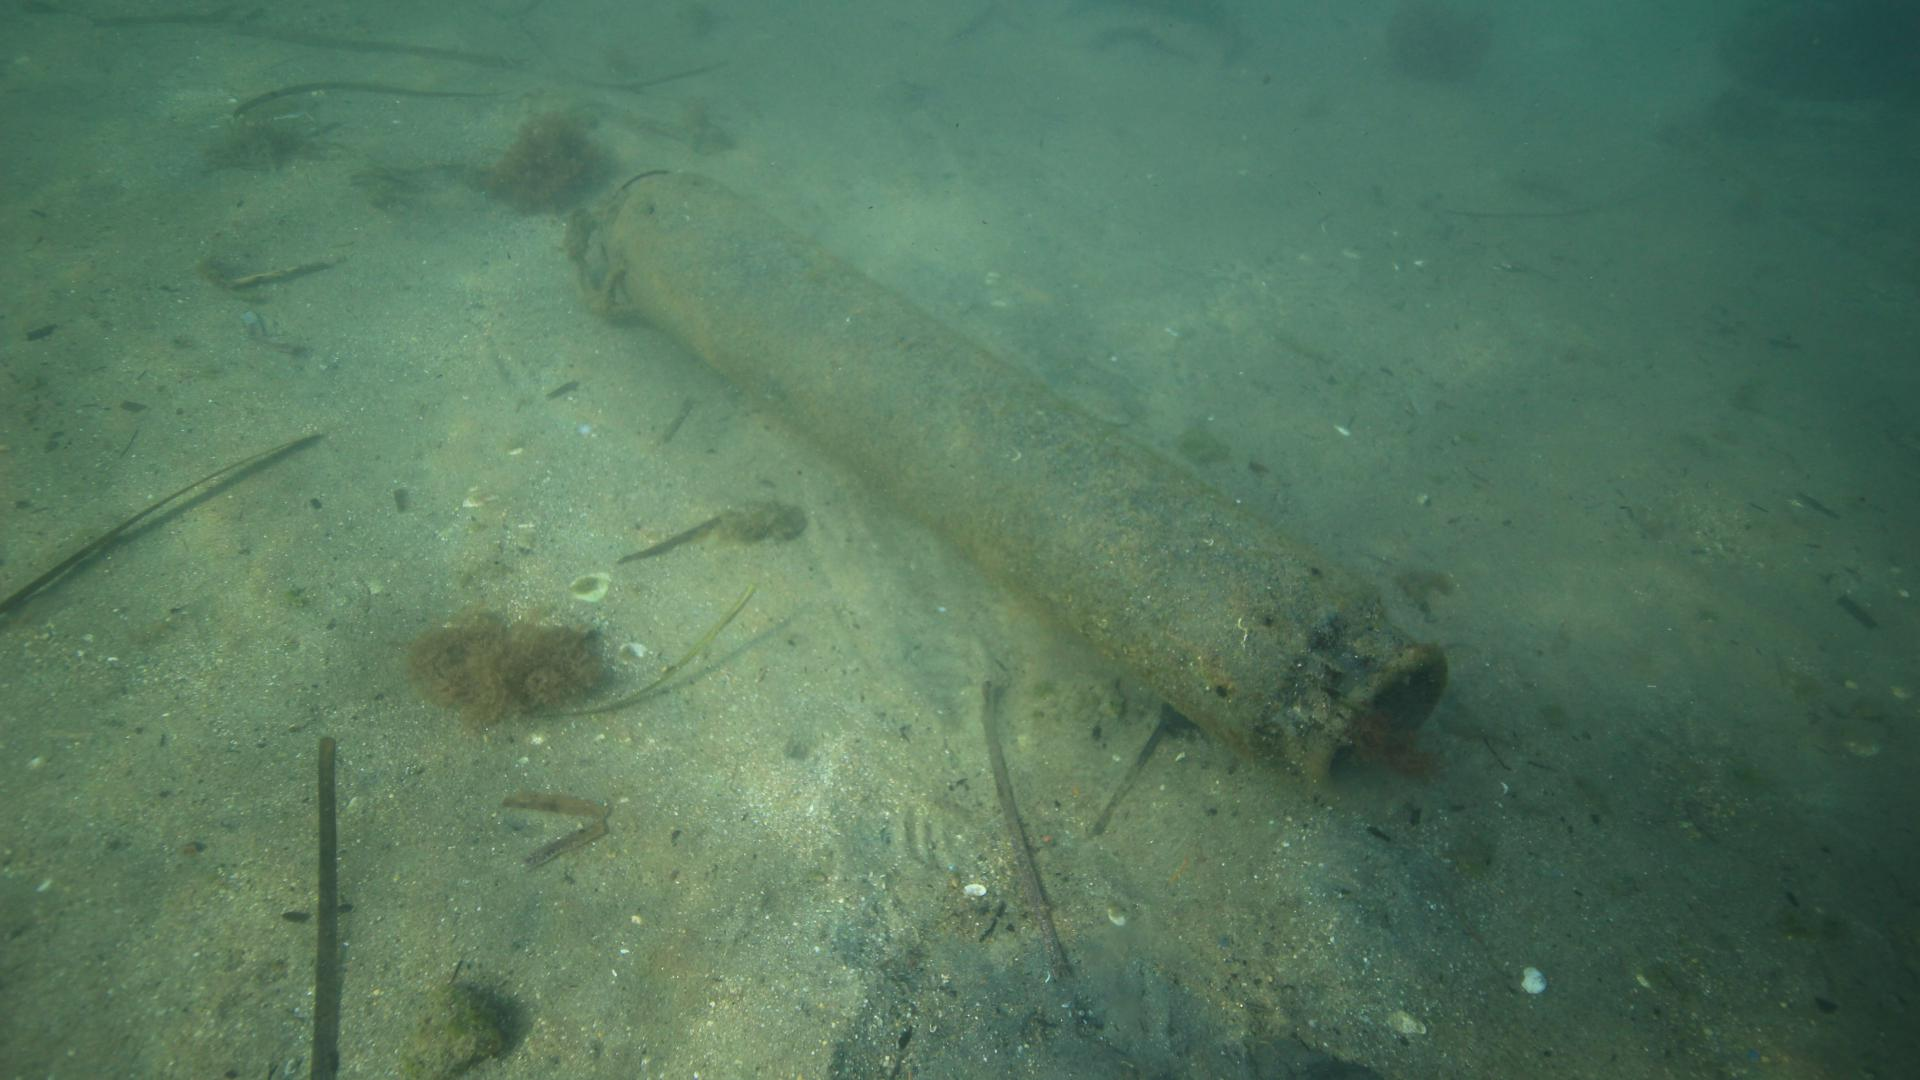eel fish trap: (582, 160, 1453, 790)
